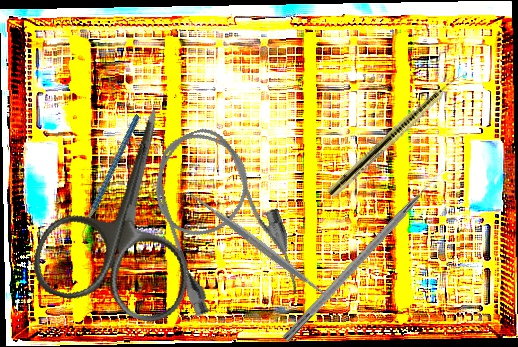Cannula: (135, 113, 308, 329)
Chopper: (46, 113, 176, 246)
Handpiece: (326, 66, 469, 200)
Hook Surgical: (281, 166, 449, 344)
Iris Scissors: (24, 89, 232, 330)
Spatula Surgical: (180, 181, 345, 313)
